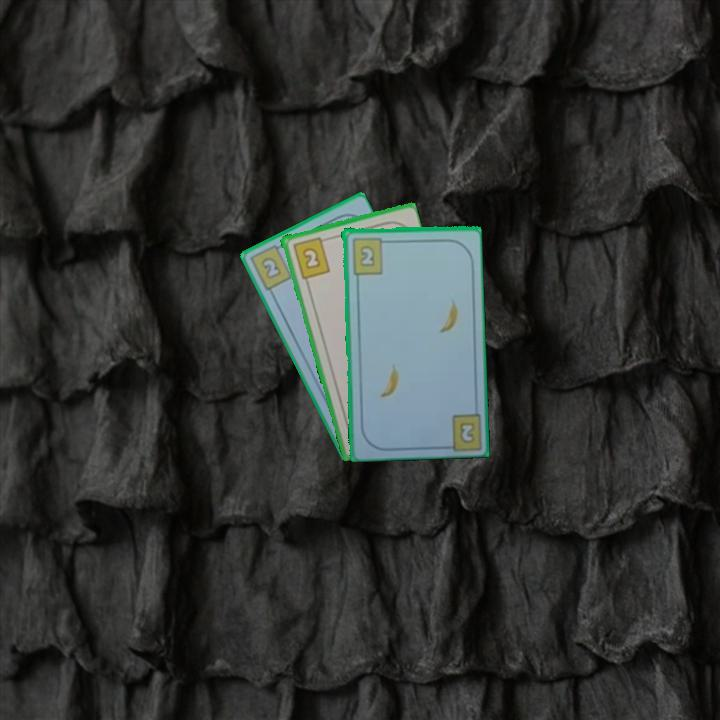2b: (247, 240, 295, 293), (289, 233, 333, 281), (349, 234, 390, 277), (456, 419, 477, 445)
